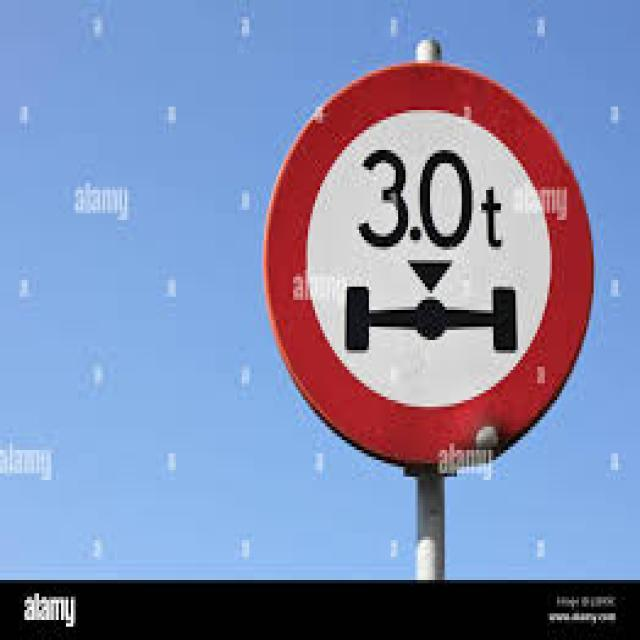axle load limit: (263, 59, 597, 469)
